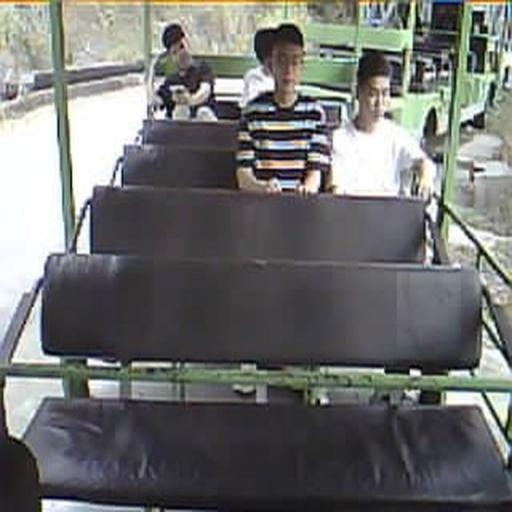persona: (233, 24, 332, 198), (331, 51, 438, 204), (147, 24, 216, 122), (238, 27, 276, 111)
